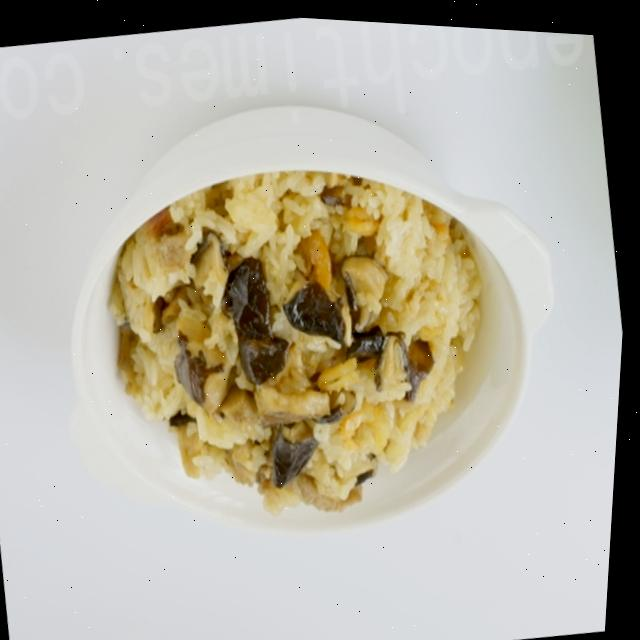米饭主食: (34, 75, 583, 597)
